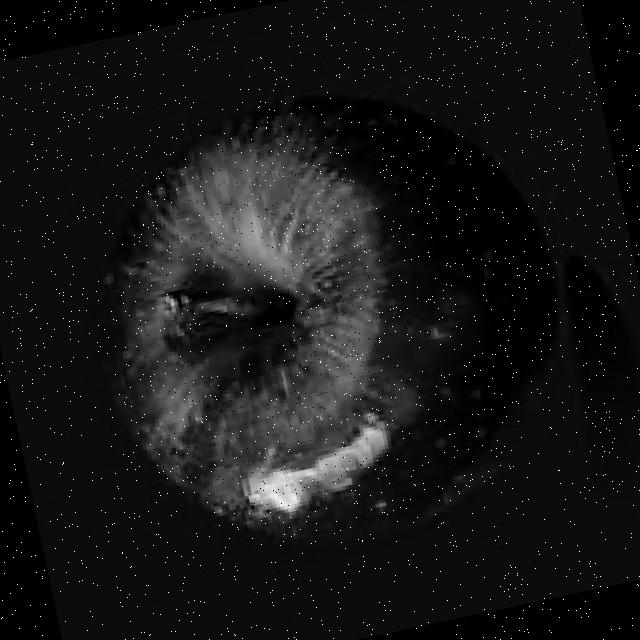apple: (54, 54, 599, 581)
